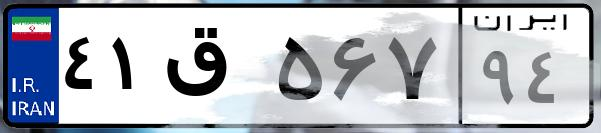1: (110, 28, 158, 98)
4: (57, 26, 110, 100), (525, 38, 570, 115)
5: (270, 28, 330, 110)
6: (330, 28, 385, 110)
7: (385, 28, 445, 110)
9: (475, 38, 525, 113)
ق: (158, 20, 270, 120)
